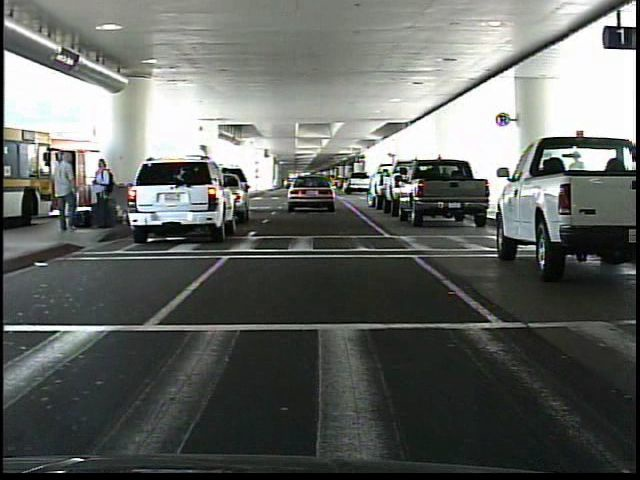person: (49, 151, 80, 231), (89, 154, 115, 231)
